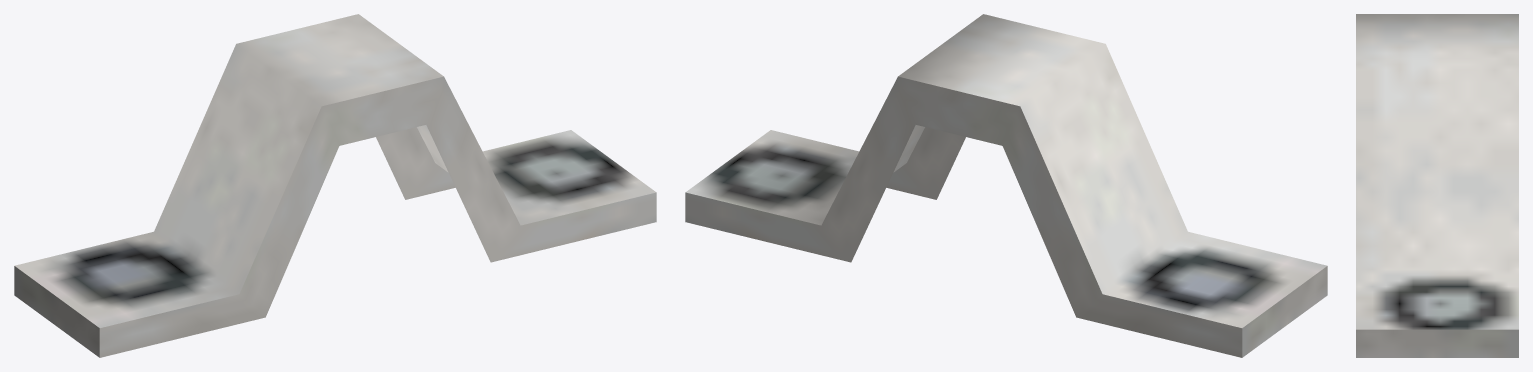
File: cable_accessory_clip_small.dae
The picture shows the model from 3 angles, left to right: view 1: azimuth 30°, elevation 25°; view 2: azimuth 150°, elevation 25°; view 3: azimuth 270°, elevation 25°; orthographic projection. The views are drawn at different scales.
Parts seen in each view (by area): view 1: Mesh__2_; view 2: Mesh__2_; view 3: Mesh__2_.
Part boxes in pixels (bbox=[...]): Mesh__2_: bbox=[14, 14, 656, 357]; Mesh__2_: bbox=[685, 14, 1327, 357]; Mesh__2_: bbox=[1356, 14, 1518, 357].
Bounding box in the file's own units: 0.0604 × 0.0205 × 0.0161.
